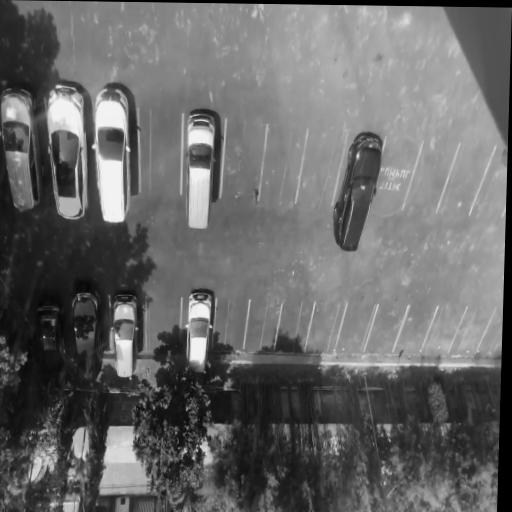Car: (326, 125, 388, 258), (44, 84, 89, 221), (0, 85, 45, 221), (91, 88, 132, 226), (184, 108, 219, 231), (70, 287, 105, 381), (34, 295, 74, 377), (110, 290, 139, 381)
Space Available: (259, 123, 308, 207), (296, 129, 348, 208), (137, 106, 182, 195), (221, 116, 268, 201), (404, 143, 460, 213), (437, 149, 496, 215), (372, 138, 424, 209), (183, 287, 214, 378), (304, 298, 349, 355), (470, 150, 507, 219), (449, 306, 496, 356), (421, 305, 468, 354), (393, 304, 439, 354), (274, 300, 316, 354), (364, 304, 410, 353), (335, 302, 379, 353), (146, 296, 182, 356), (242, 300, 281, 353), (213, 298, 251, 350), (475, 307, 503, 357)
